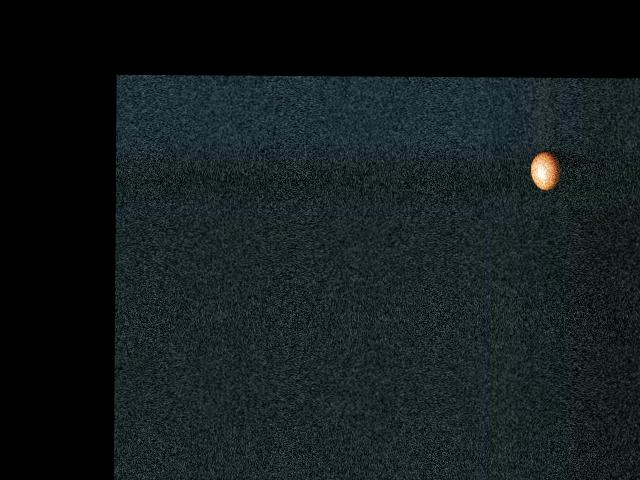egg: (531, 150, 561, 190)
